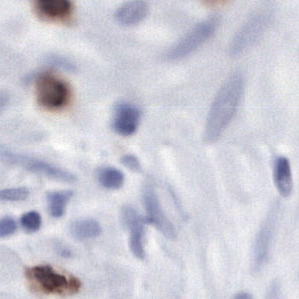Lymphocyte: (31, 264, 76, 293)
